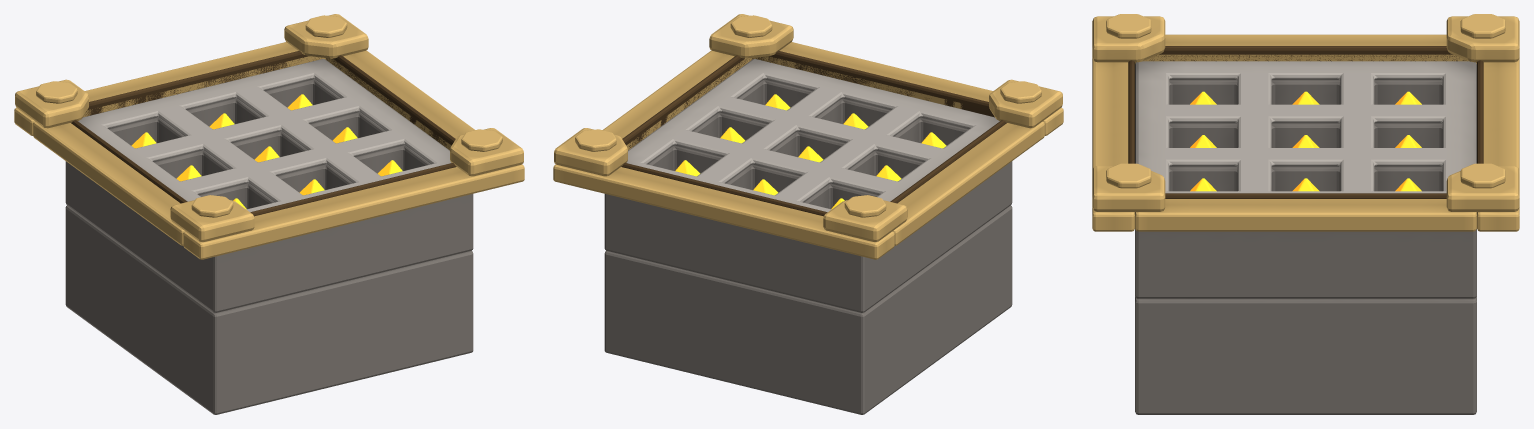
Rendered from board_spikes_3.glb.
3 renders of one model, left to right at view 1: azimuth 30°, elevation 25°; view 2: azimuth 150°, elevation 25°; view 3: azimuth 270°, elevation 25°, orthographic. The views are drawn at different scales.
Visible parts, largest first — view 1: BaseFloor, Base, Plate, Gold1, Gold3, Gold0, Gold2, GoldLine0, Bolt3, Bolt0, Bolt1, Bolt2 (+7 smaller); view 2: BaseFloor, Base, Plate, Gold0, Gold3, Gold1, Gold2, GoldLine1, Bolt1, Bolt2, Bolt0, Bolt3 (+7 smaller); view 3: BaseFloor, Base, Plate, Gold2, Gold3, Gold0, Gold1, GoldLine3, Bolt1, Bolt3, Bolt0, Bolt2 (+7 smaller).
Boxes of the visible parts, x1,y1,x2,y2 form: BaseFloor: (65,205,473,414); Base: (65,79,473,312); Plate: (78,59,451,212); Gold1: (183,164,524,259); Gold3: (33,121,185,245); Gold0: (14,42,325,135); Gold2: (325,50,475,150); GoldLine0: (85,50,319,116); Bolt3: (170,200,254,242); Bolt0: (284,14,368,58); Bolt1: (15,79,88,128); Bolt2: (450,128,523,176); BaseFloor: (604,205,1012,414); Base: (604,79,1012,312); Plate: (626,59,999,212); Gold0: (553,164,894,259); Gold3: (892,121,1044,245); Gold1: (752,42,1063,135); Gold2: (602,50,751,150); GoldLine1: (753,50,994,117); Bolt1: (823,200,907,242); Bolt2: (709,14,793,58); Bolt0: (554,128,627,176); Bolt3: (989,79,1062,128); BaseFloor: (1135,296,1476,414); Base: (1135,80,1476,298); Plate: (1135,61,1476,193); Gold2: (1135,199,1476,231); Gold3: (1135,34,1476,63); Gold0: (1477,58,1519,231); Gold1: (1092,58,1134,231); GoldLine3: (1149,46,1476,62); Bolt1: (1446,16,1519,62); Bolt3: (1092,16,1165,62); Bolt0: (1446,166,1519,211); Bolt2: (1092,166,1165,211).
Size of the model in its own units: 1 by 0.6367 by 1.
